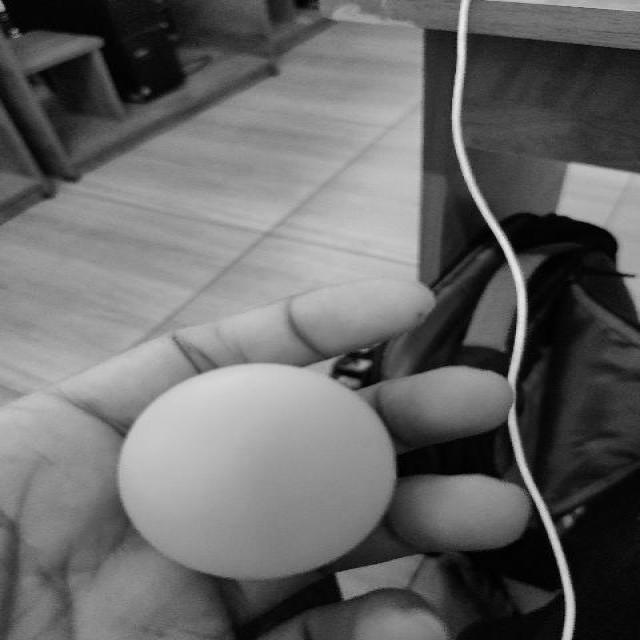ping-pong-ball: (115, 362, 397, 584)
